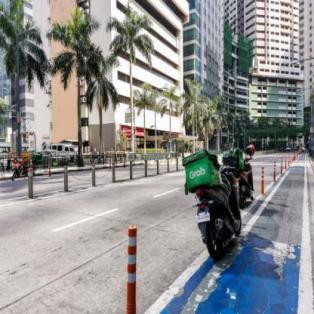Motocicleta: (178, 153, 242, 262)
